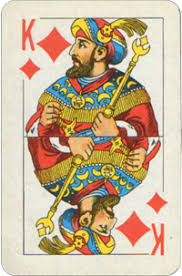king of diamonds: (2, 1, 179, 276)
